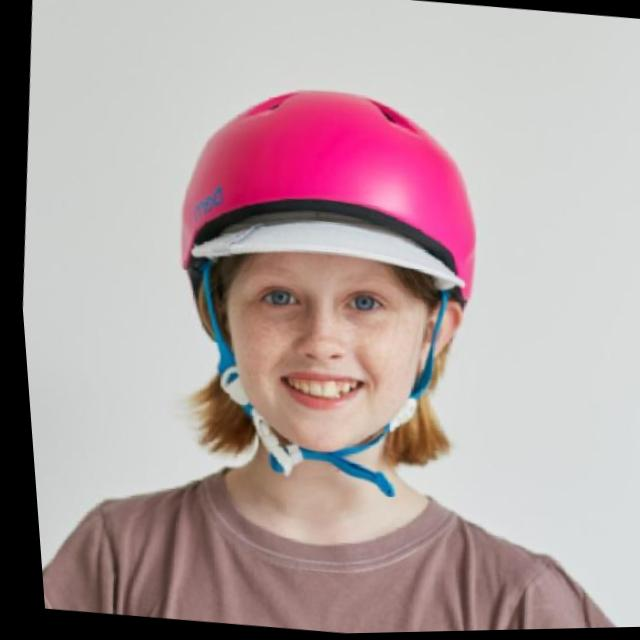WITH_HELMET: (145, 62, 510, 454)
